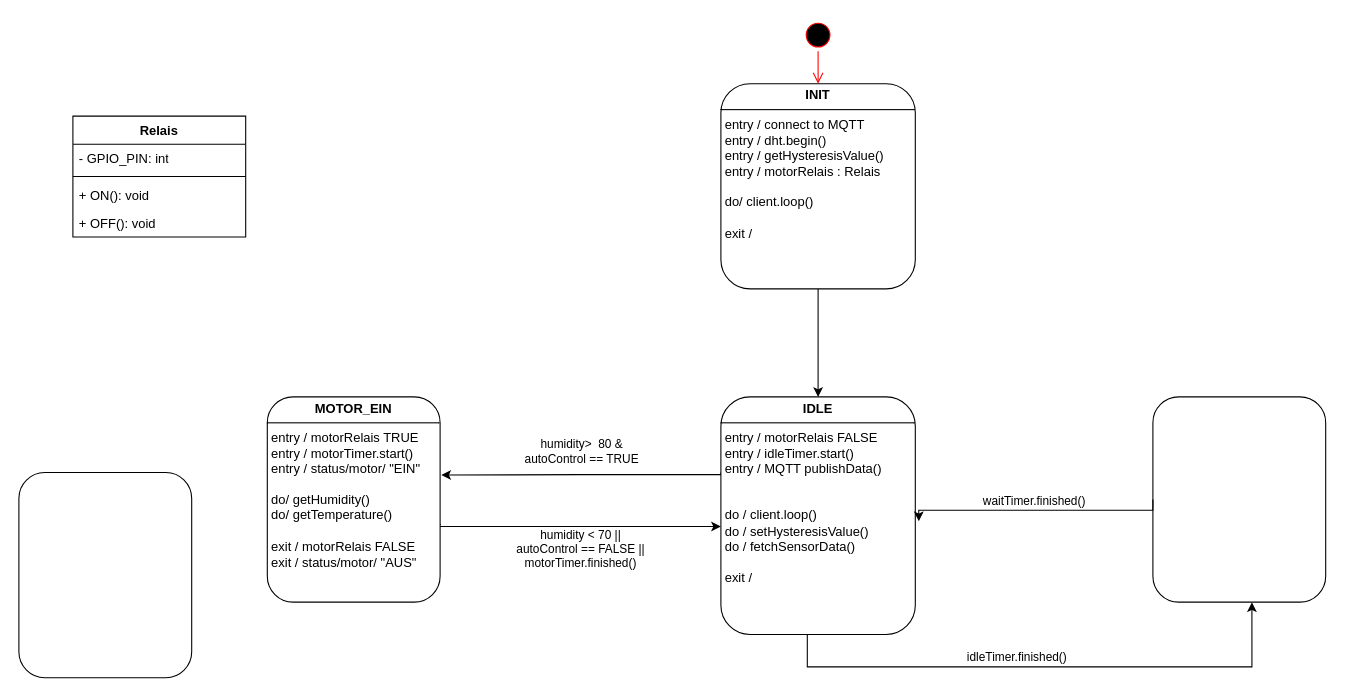
The diagram is 1345 pixels wide and 697 high, and some of its shapes have lost their labels. Here are the shapes that lost their labels. From the top down, the centre of each, then its label:
At point (1239, 499): "SLEEP() entry / waitTimer.start() entry / do/ client.loop() exit /".
At point (105, 574): "Class entry / Type entry / do/ exit /".
